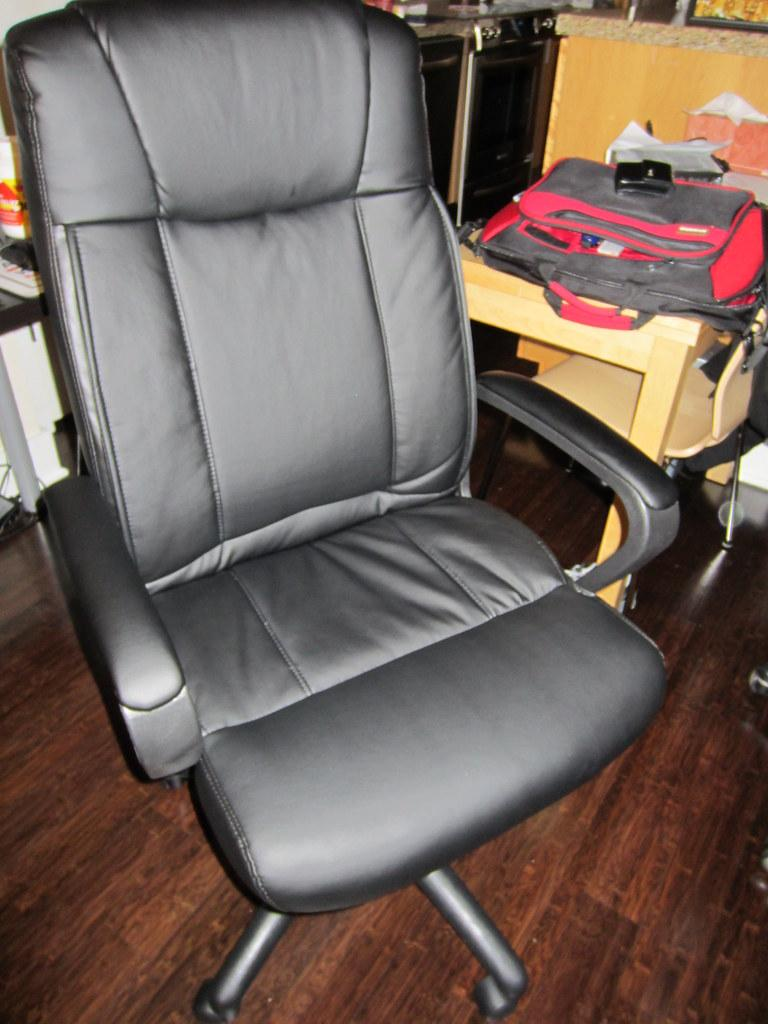chair: (3, 1, 680, 1023)
